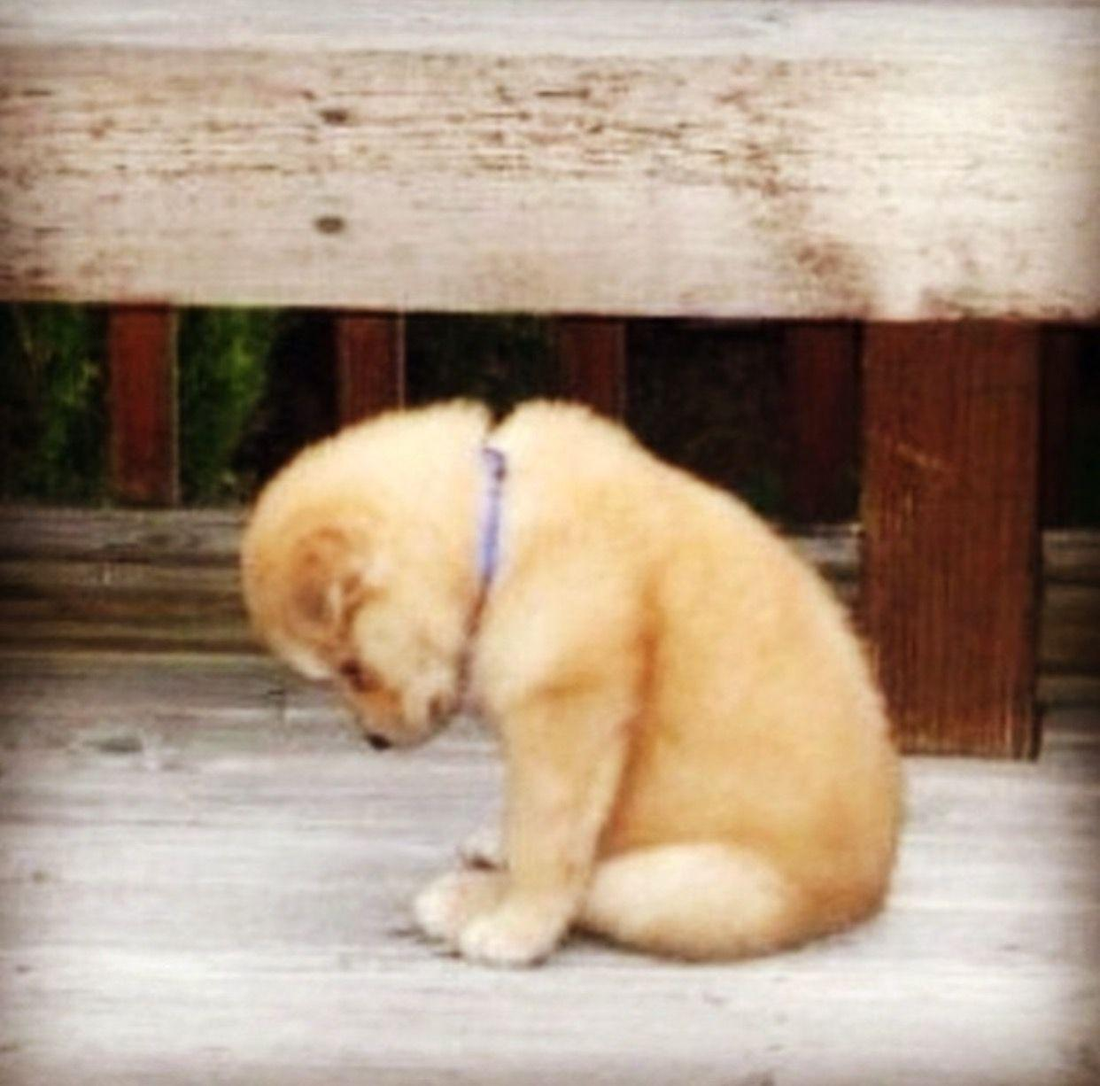puppy-dog: (235, 394, 906, 973)
